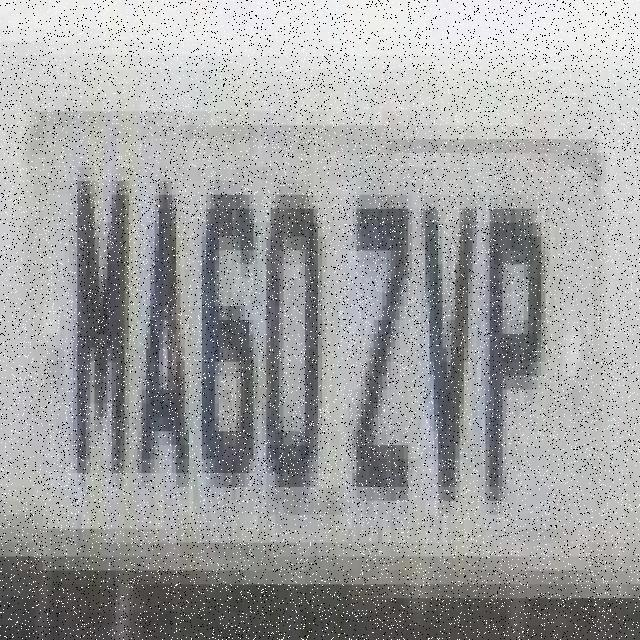LicensePlate: (38, 113, 598, 565)
